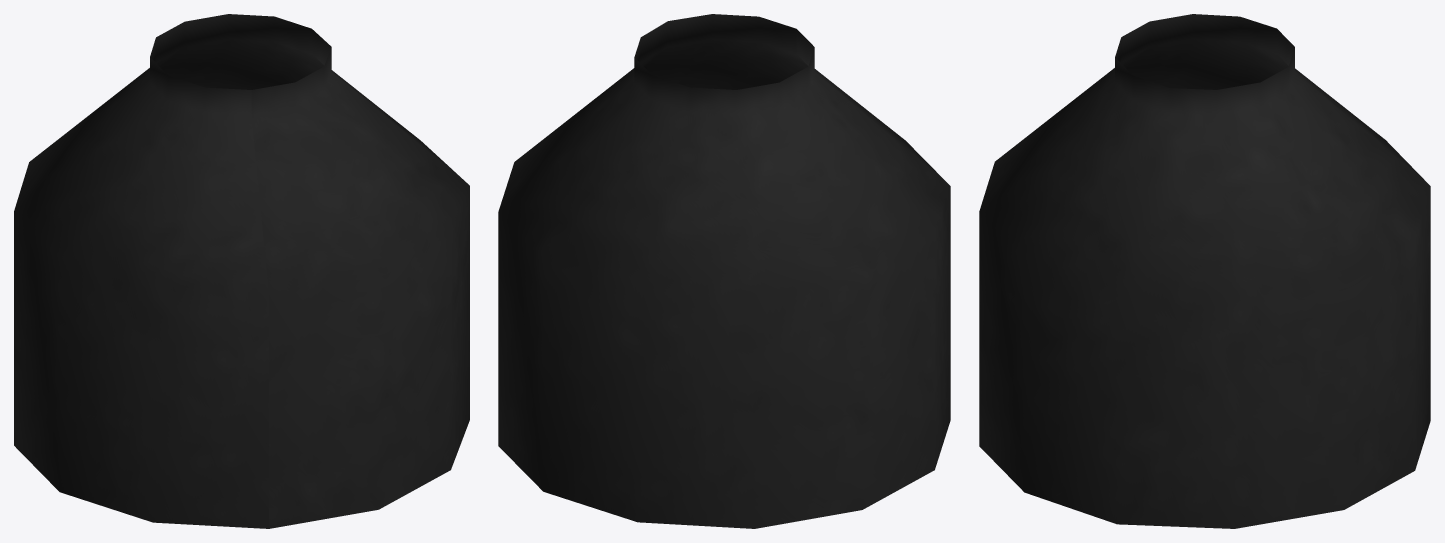
The model's file is cylinder_cap.fbx.
3 views of the same model, side by side, from view 1: azimuth 30°, elevation 25°; view 2: azimuth 150°, elevation 25°; view 3: azimuth 270°, elevation 25° (orthographic).
Visible parts, largest first — view 1: polySurface278; view 2: polySurface278; view 3: polySurface278.
Boxes of the visible parts, x1,y1,x2,y2 form: polySurface278: [14, 14, 469, 528]; polySurface278: [498, 14, 950, 528]; polySurface278: [979, 14, 1430, 528].
Bounding box in the file's own units: 2.89 × 2.7 × 2.89.
Materials: 1 (1 with a texture image).
